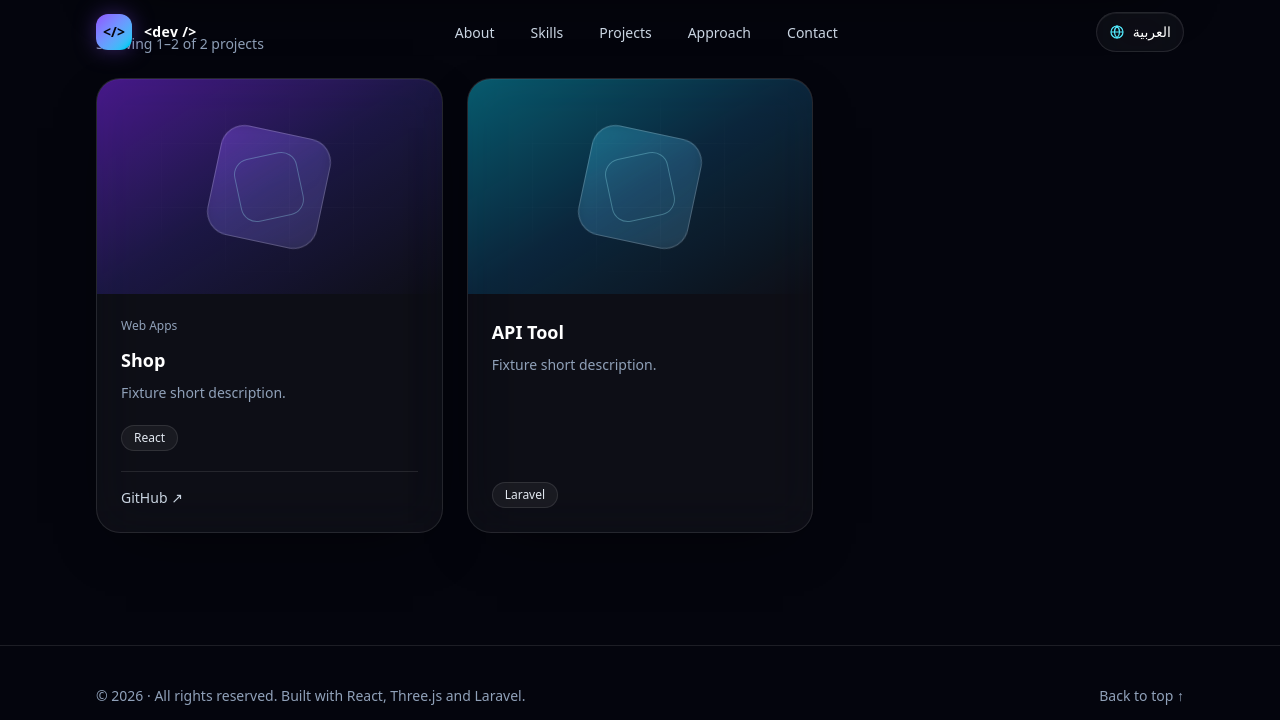
Test: Project links from the list › opens the project page from a card
(page scrolled)
Click the link "Shop" at [143, 360], box [121, 348, 165, 372]
(page scrolled)
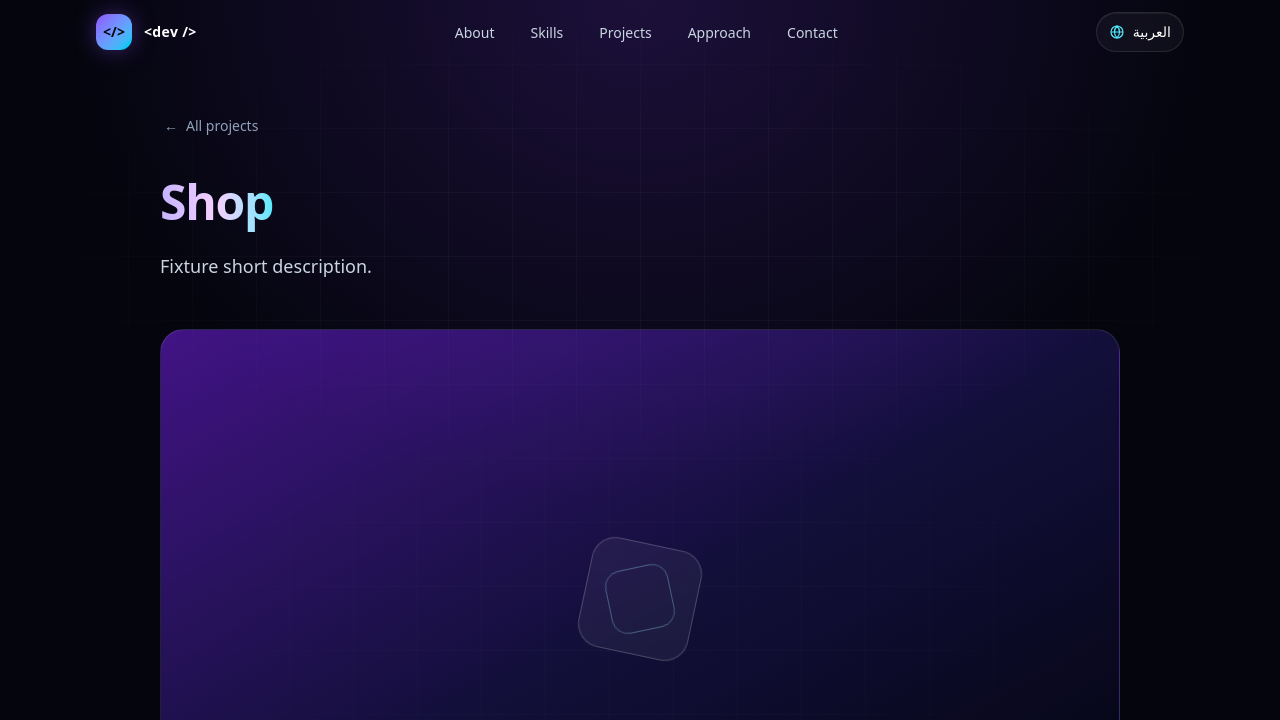
Check: the heading "Shop" is shown, box [160, 169, 273, 234]
